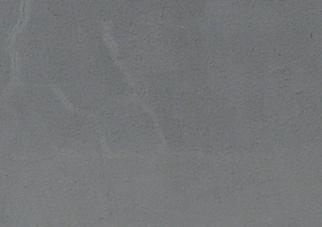fissura: (10, 2, 38, 67)
